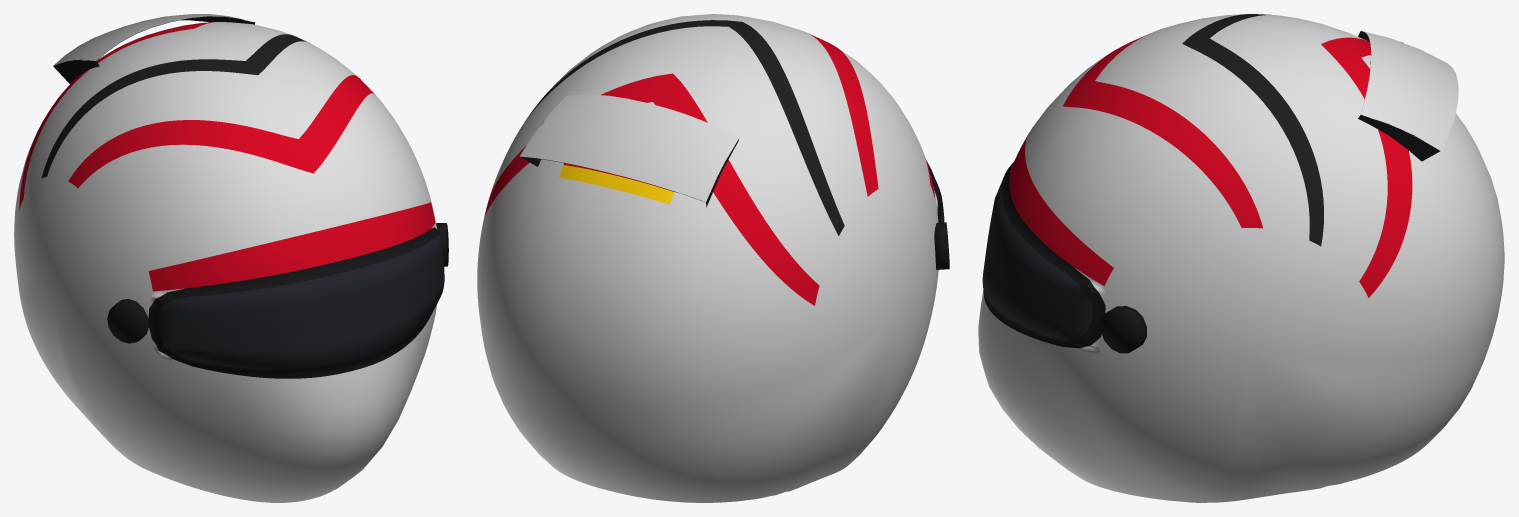
Rendered from HUL.glb.
3 renders of one model, left to right at view 1: azimuth 30°, elevation 25°; view 2: azimuth 150°, elevation 25°; view 3: azimuth 270°, elevation 25°, orthographic. The views are drawn at different scales.
Visible parts, largest first — view 1: helmet; view 2: helmet; view 3: helmet.
Boxes of the visible parts, <box> form: helmet: <box>14,14,448,502</box>; helmet: <box>477,14,949,502</box>; helmet: <box>978,14,1504,502</box>.
Bounding box in the file's own units: 0.256 × 0.2772 × 0.3111.
